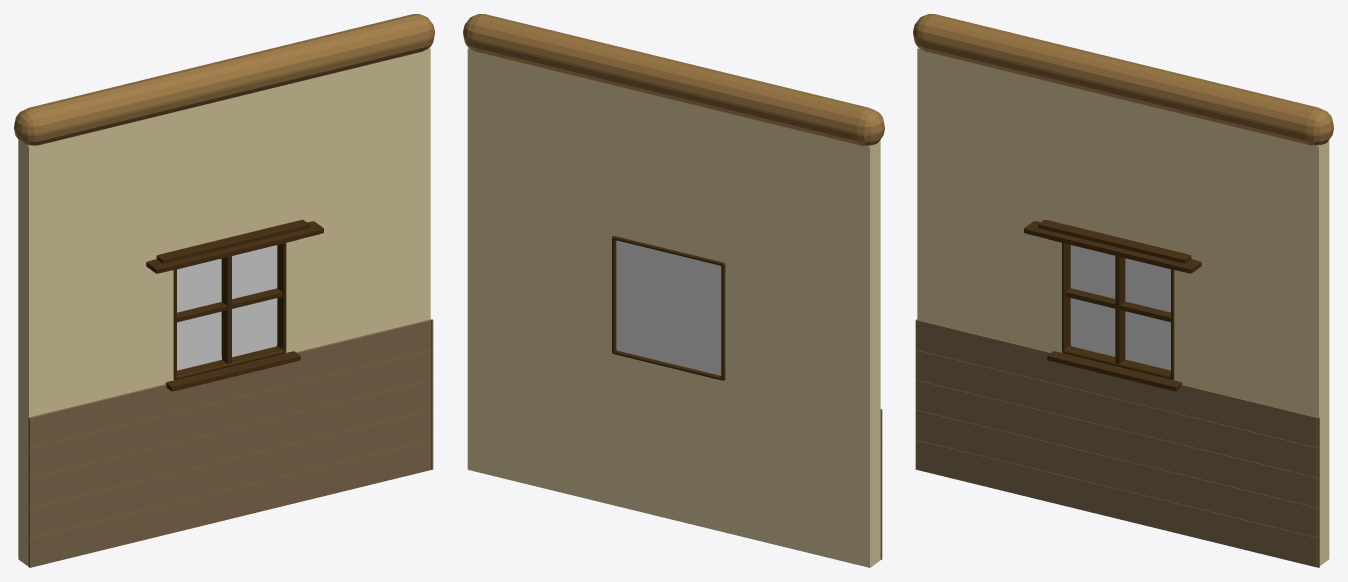
The model's file is SingleWallwithWindow03.fbx.
3 views of the same model, side by side, from view 1: azimuth 30°, elevation 25°; view 2: azimuth 150°, elevation 25°; view 3: azimuth 330°, elevation 25° (orthographic).
Parts seen in each view (by area): view 1: SingleWall-Window03; view 2: SingleWall-Window03; view 3: SingleWall-Window03.
Part boxes in pixels (x1,y1,x2,y2): SingleWall-Window03: [14, 14, 434, 567]; SingleWall-Window03: [463, 14, 884, 567]; SingleWall-Window03: [913, 14, 1333, 567].
Size of the model in its own units: 207 by 215 by 21.97.
